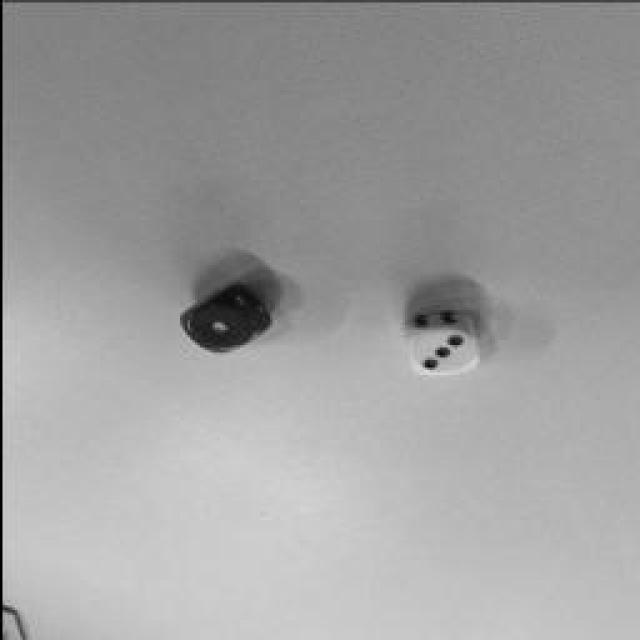dice_1: (182, 300, 252, 350)
dice_3: (408, 328, 472, 374)
